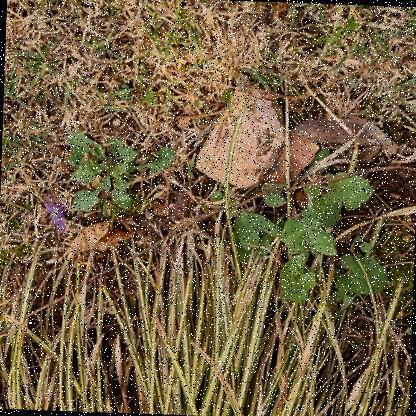Weeds: (227, 144, 393, 308), (65, 132, 175, 216)
